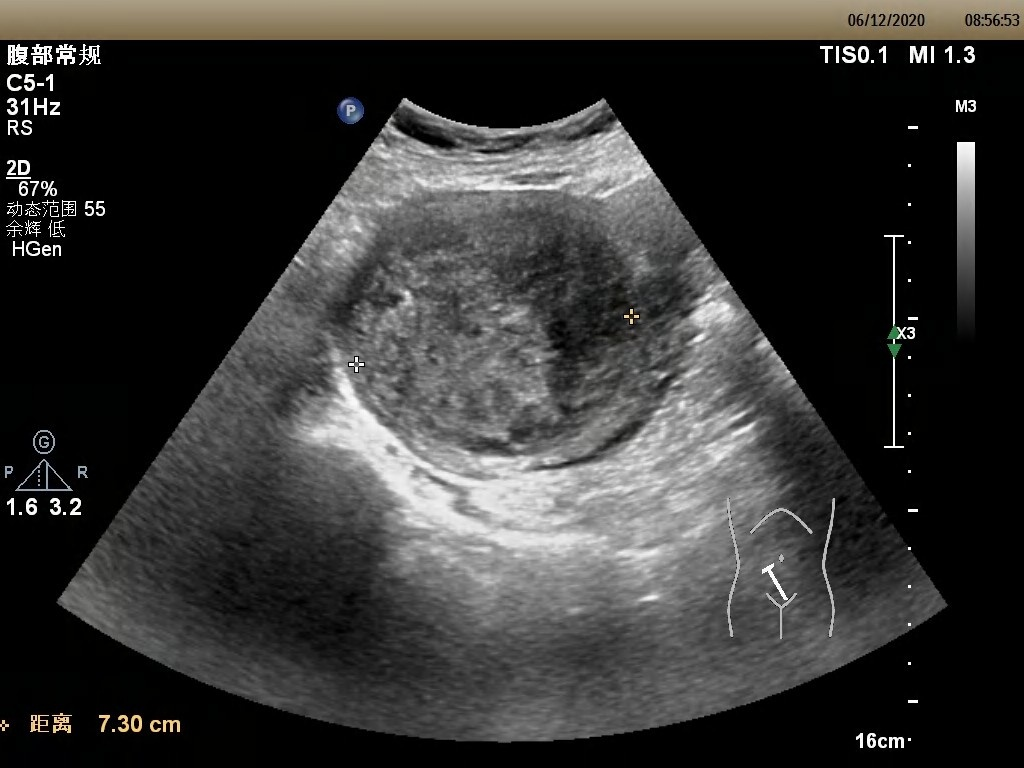肌瘤: (355, 201, 634, 469)
